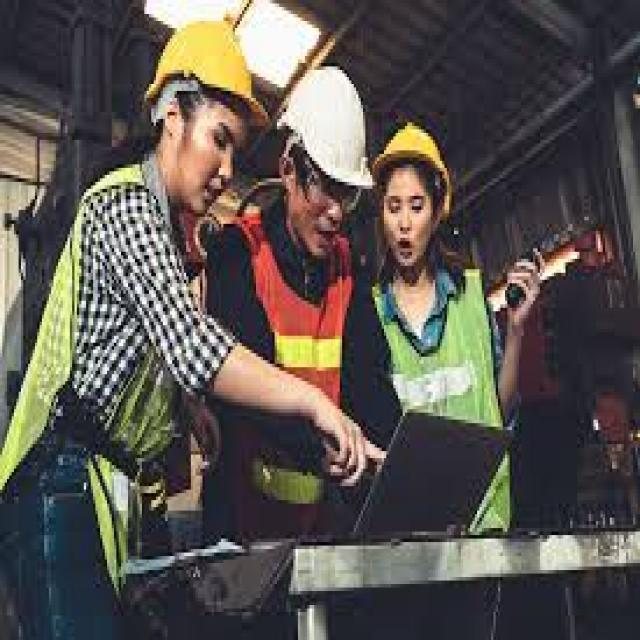reflective_jacket: (3, 140, 195, 575), (240, 217, 360, 493), (363, 251, 513, 453)
safety_helmet: (139, 10, 268, 130), (282, 63, 372, 196), (371, 112, 461, 199)
